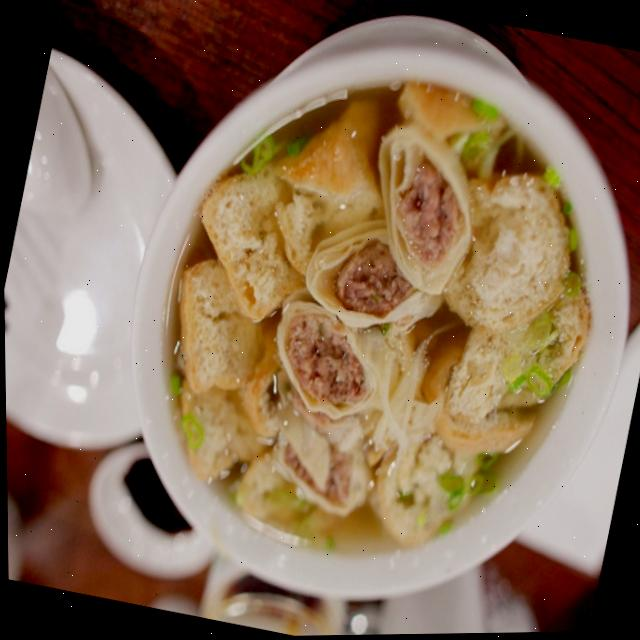带馅早点: (61, 2, 640, 639)
